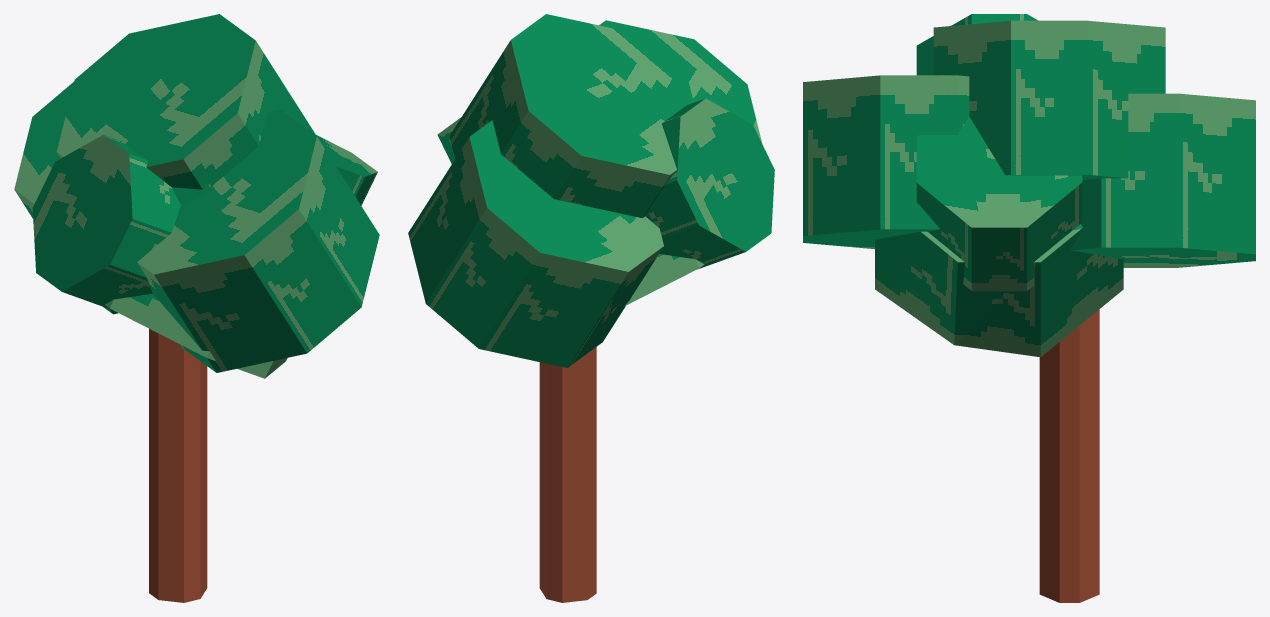
File: tree.gltf
The picture shows the model from 3 angles, left to right: view 1: azimuth 30°, elevation 25°; view 2: azimuth 150°, elevation 25°; view 3: azimuth 270°, elevation 25°; orthographic projection. The views are drawn at different scales.
Bounding box in the file's own units: 9.7 × 16.36 × 11.27.
1 material, 1 textured.
